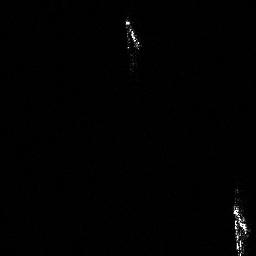ship: (229, 199, 254, 256), (123, 17, 143, 52)
